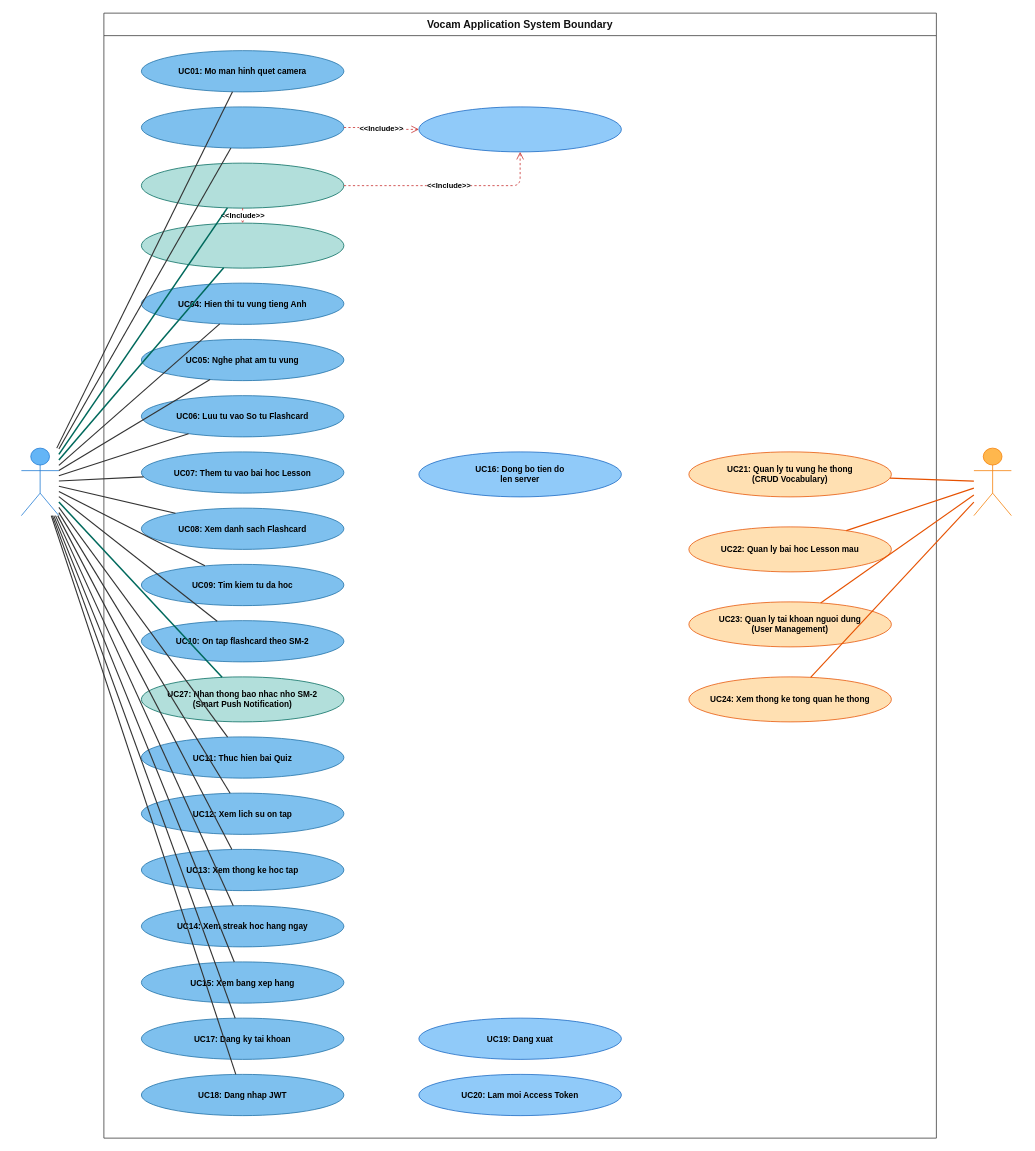
Some shapes in this 1035 by 1151 pixel diagram are drawn without their labels. The centre of each missing label's shape, as x and y in pixels:
Nguoi dung (Learner): the point at 40,481
Quan tri vien (Admin): the point at 992,481
UC02: Chup anh vat the: the point at 242,127
UC03: Nhan dien vat the bang YOLO: the point at 519,129
UC25: Nhan dien & Tuong tac da vat the (Multi-Object Bounding Box): the point at 242,185
UC26: Sinh cau vi du ngu canh AI (Google Gemini API): the point at 242,245
